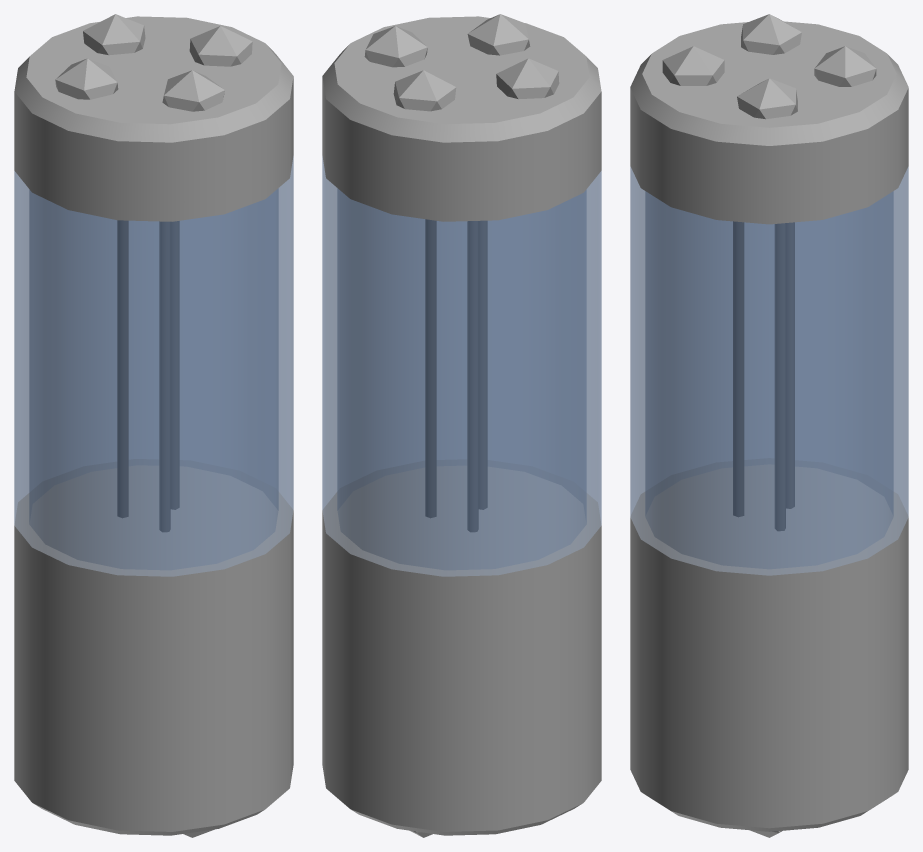
The model's file is pojistka.fbx.
The picture shows the model from 3 angles, left to right: view 1: azimuth 30°, elevation 25°; view 2: azimuth 150°, elevation 25°; view 3: azimuth 270°, elevation 25°; orthographic projection.
Parts seen in each view (by area): view 1: pojistka; view 2: pojistka; view 3: pojistka.
Boxes of the visible parts, x1,y1,x2,y2 form: pojistka: (14,14,293,837); pojistka: (322,14,601,837); pojistka: (630,14,908,837).
Size of the model in its own units: 6.08 by 18.29 by 6.08.
